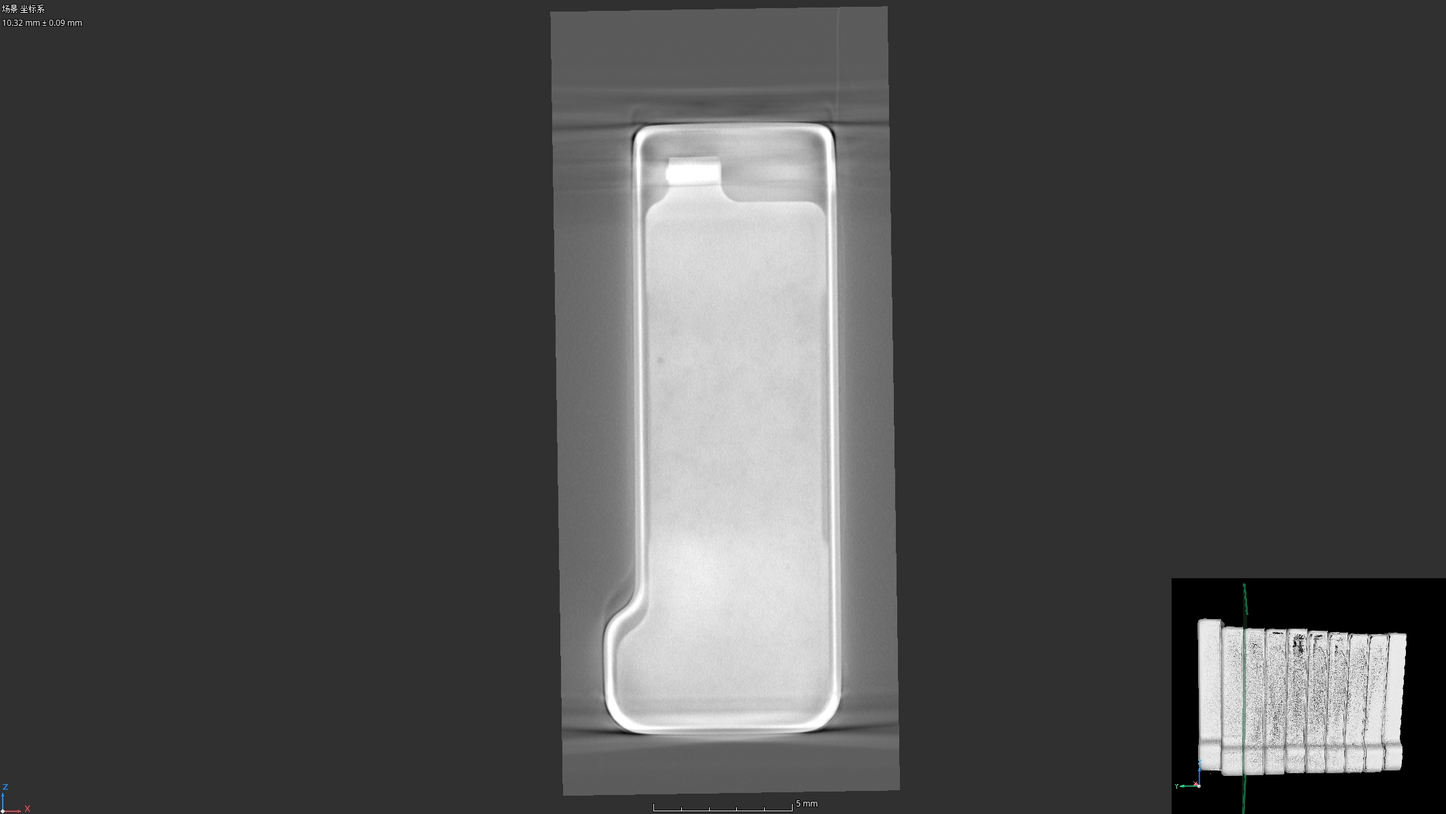dark: (653, 355, 666, 367)
